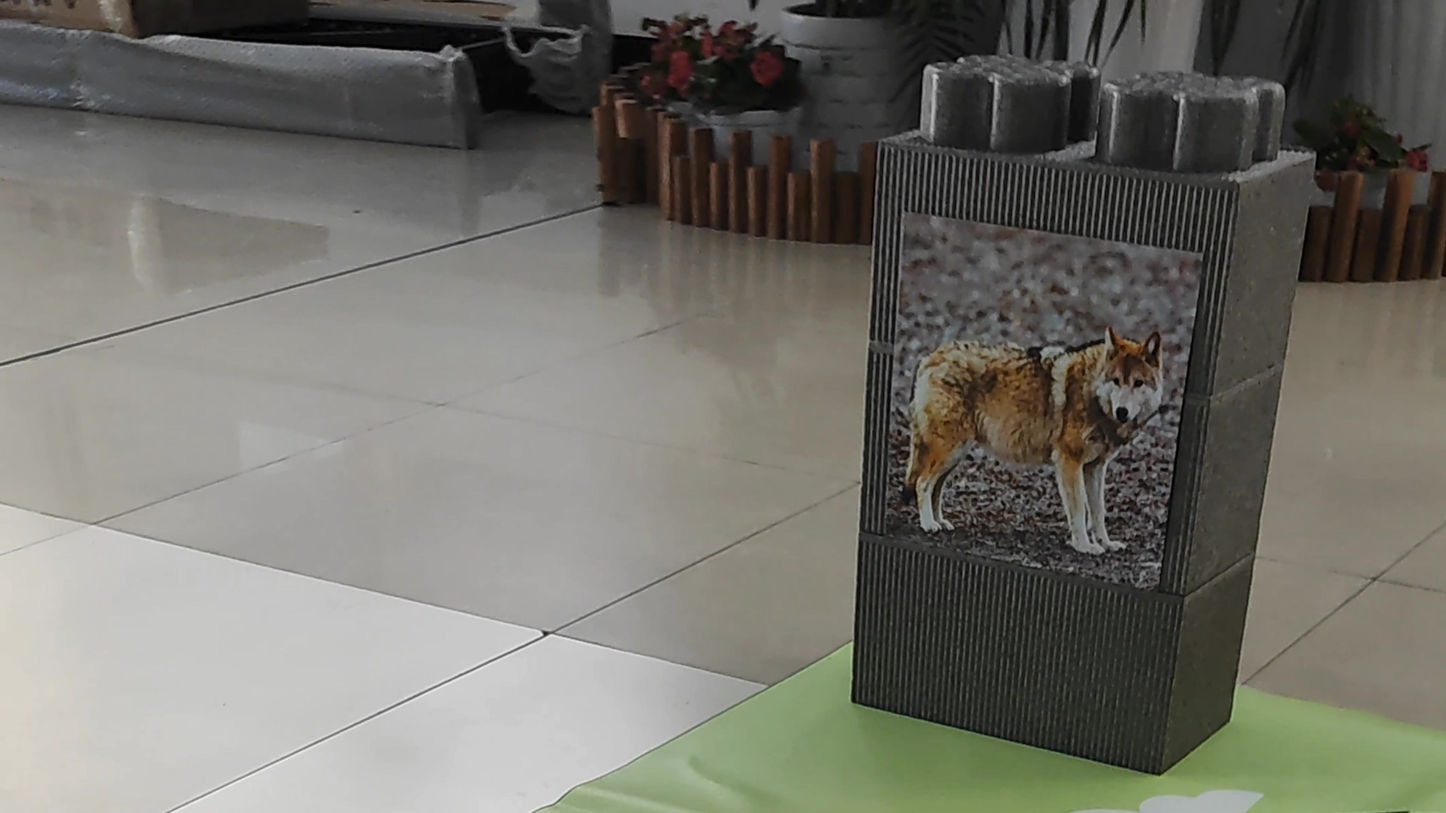wolf: (878, 301, 1178, 572)
